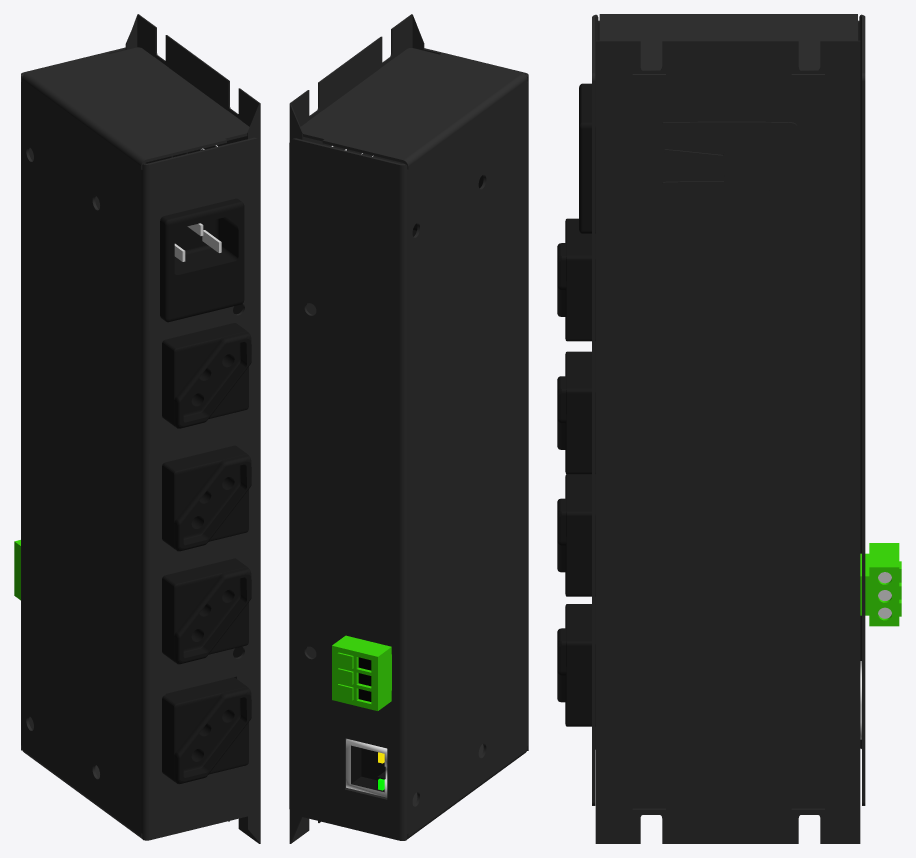
Rendered from smart2.glb.
The picture shows the model from 3 angles, left to right: view 1: azimuth 30°, elevation 25°; view 2: azimuth 150°, elevation 25°; view 3: azimuth 270°, elevation 25°; orthographic projection. The views are drawn at different scales.
Parts seen in each view (by area): view 1: V4_Base_Smart_Ruler v4, Cube.003, Cube.012, Cube.007, Cube.010, Cube.011, Plane; view 2: V4_Base_Smart_Ruler v4, Plane, Cube.017, Cube.013, Cube; view 3: Plane, V4_Base_Smart_Ruler v4, Cube.010, Cube.011, Cube.012, Cube.007, Cube.017, Cube.003.
Part boxes in pixels (x1,y1,x2,y2): V4_Base_Smart_Ruler v4: [21, 47, 259, 840]; Cube.003: [160, 198, 244, 322]; Cube.012: [162, 677, 251, 784]; Cube.007: [162, 323, 251, 428]; Cube.010: [162, 445, 251, 551]; Cube.011: [162, 558, 251, 664]; Plane: [125, 14, 260, 843]; V4_Base_Smart_Ruler v4: [289, 48, 528, 840]; Plane: [289, 14, 424, 843]; Cube.017: [332, 635, 391, 710]; Cube.013: [351, 745, 385, 792]; Cube: [346, 738, 387, 797]; Plane: [595, 40, 860, 843]; V4_Base_Smart_Ruler v4: [592, 14, 865, 812]; Cube.010: [557, 351, 595, 474]; Cube.011: [557, 474, 595, 596]; Cube.012: [557, 604, 595, 726]; Cube.007: [557, 218, 595, 341]; Cube.017: [869, 543, 899, 626]; Cube.003: [579, 83, 595, 233].
Size of the model in its own units: 0.1147 by 0.6804 by 0.2643.
